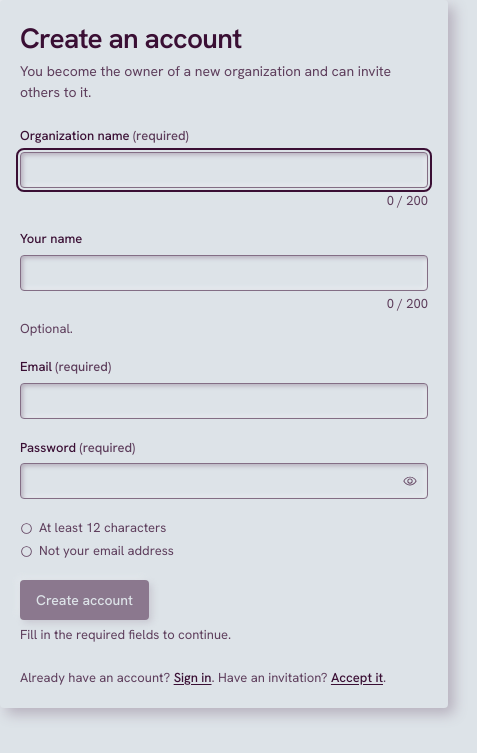
RegisterForm › shows the server's message for a refused password
This screenshot has width=477, height=753.
Type "Sam Labs" into the field labelled "Organization name (required)". click: (224,170)
box: x1=20 y1=152 x2=428 y2=188
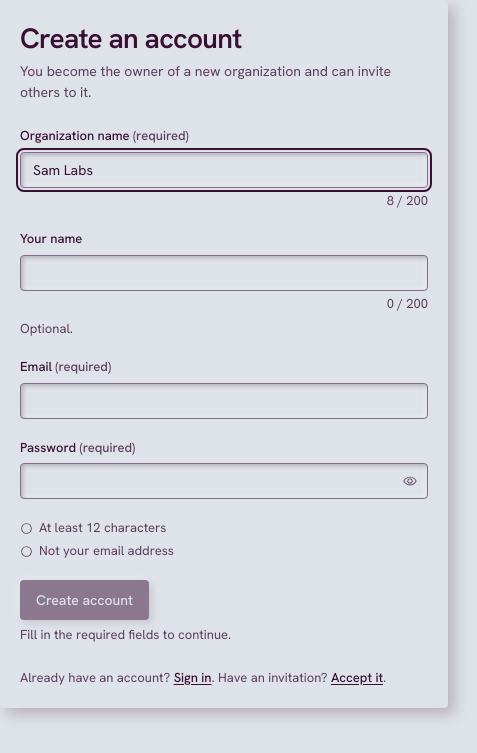
Type "sam@example.test" into the field labelled "Email (required)". click: (224,401)
box: x1=20 y1=383 x2=428 y2=419
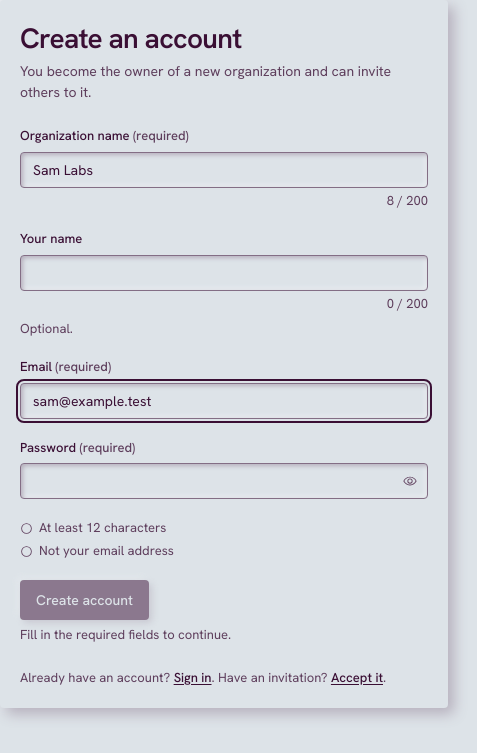
Type "correct horse battery staple" into the password field labelled "Password (required)". click: (224,481)
box: x1=20 y1=463 x2=428 y2=499
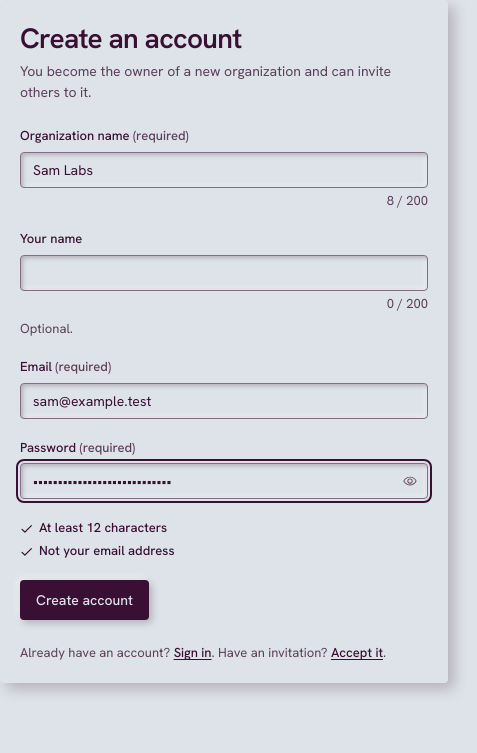
Click the button "Create account". click: (84,600)
box: x1=20 y1=580 x2=149 y2=620
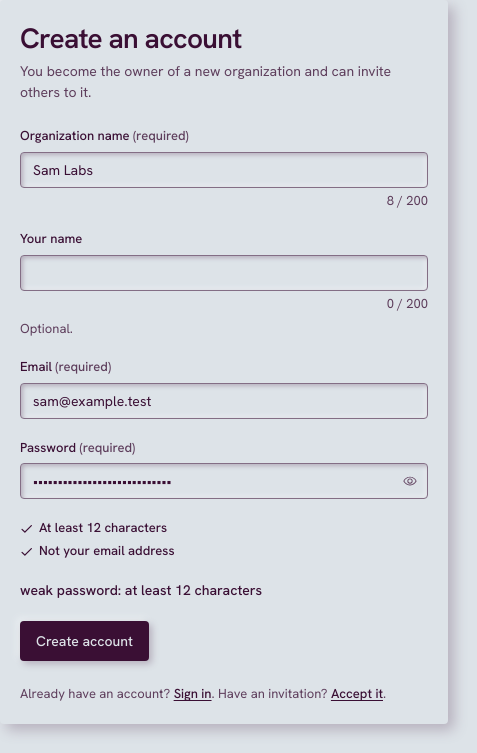
Now the message shows "at least 12 characters", box x1=20 y1=581 x2=262 y2=599
